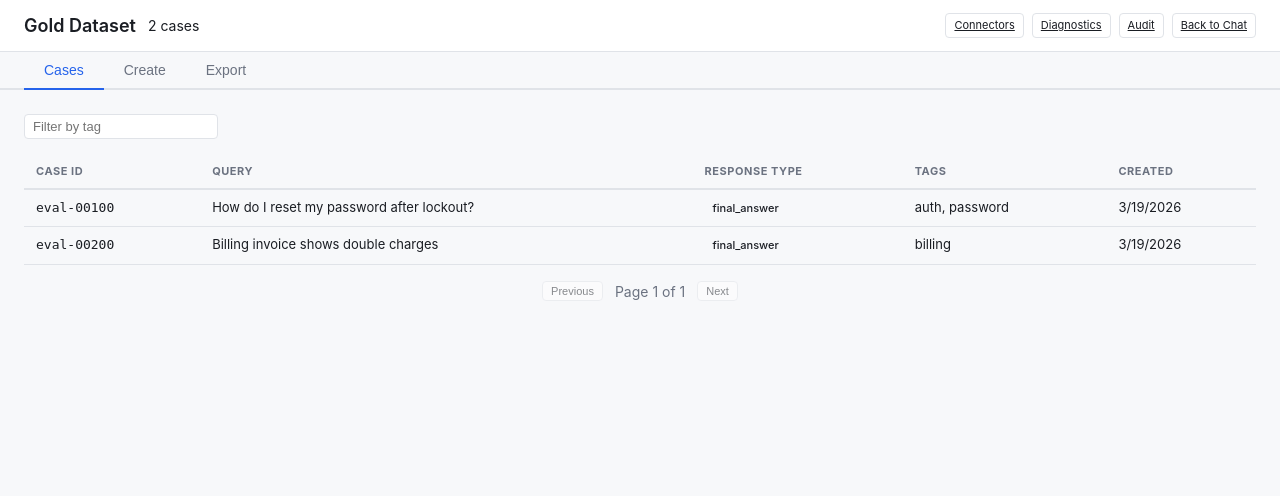
Test: GoldDatasetPage › selects and shows case detail
Click the row with test id "case-row-eval-00100" at [640, 208], box x1=24 y1=188 x2=1256 y2=226
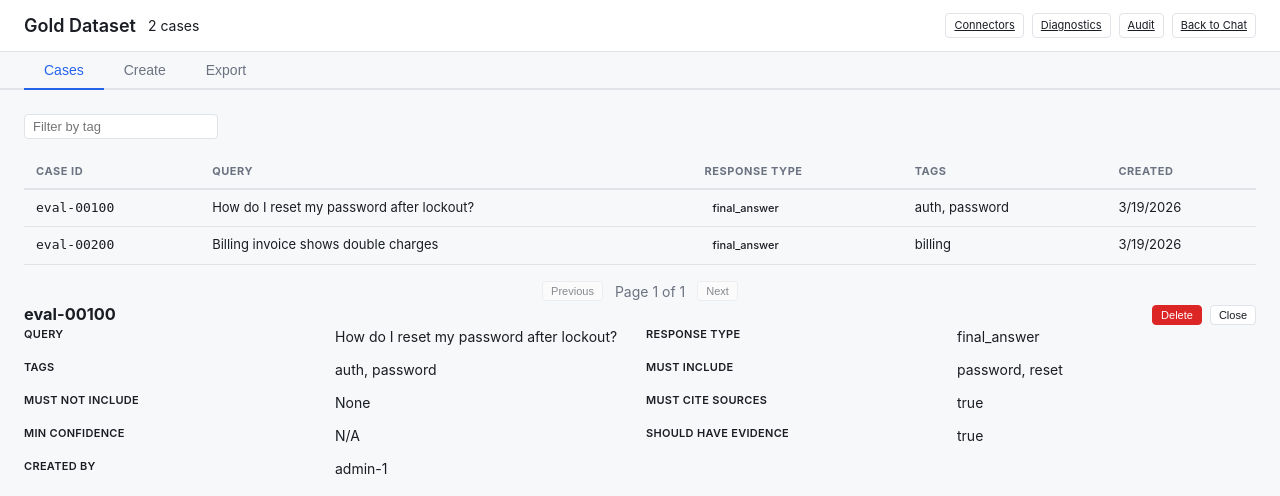
Now the element with test id "case-detail" is shown, box x1=24 y1=302 x2=1256 y2=479
Now the text "password, reset" is shown, box x1=957 y1=361 x2=1063 y2=378
